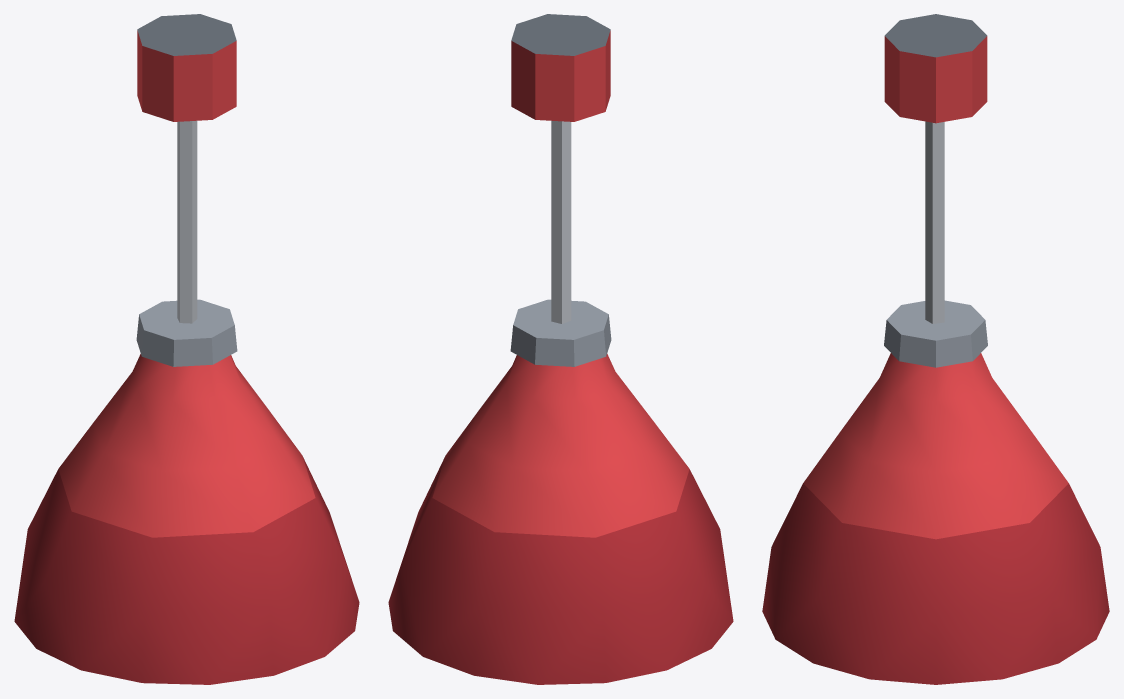
File: luminaria_pendente_sino_vermelho_pacote.glb
3 renders of one model, left to right at view 1: azimuth 30°, elevation 25°; view 2: azimuth 150°, elevation 25°; view 3: azimuth 270°, elevation 25°, orthographic.
Parts seen in each view (by area): view 1: luminaria_pendente_sino_vermelho_pacote; view 2: luminaria_pendente_sino_vermelho_pacote; view 3: luminaria_pendente_sino_vermelho_pacote.
Boxes of the visible parts, left/top/right/bottom form: luminaria_pendente_sino_vermelho_pacote: left=14, top=14, right=359, bottom=684; luminaria_pendente_sino_vermelho_pacote: left=388, top=14, right=733, bottom=684; luminaria_pendente_sino_vermelho_pacote: left=762, top=14, right=1109, bottom=684.
Bounding box in the file's own units: 0.492 × 0.9 × 0.492.
Materials: 2 (1 with a texture image).
